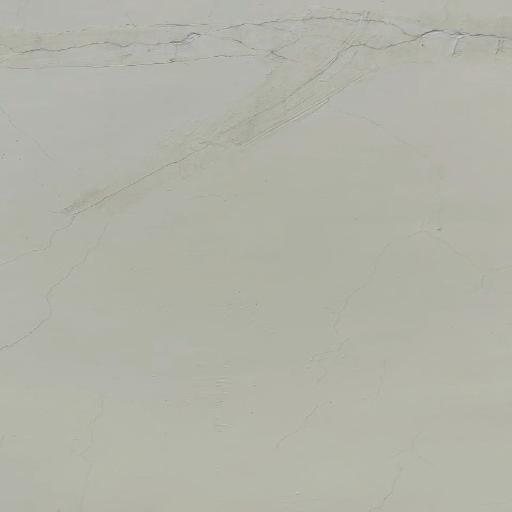employee-detectio-system: (34, 82, 482, 427)
